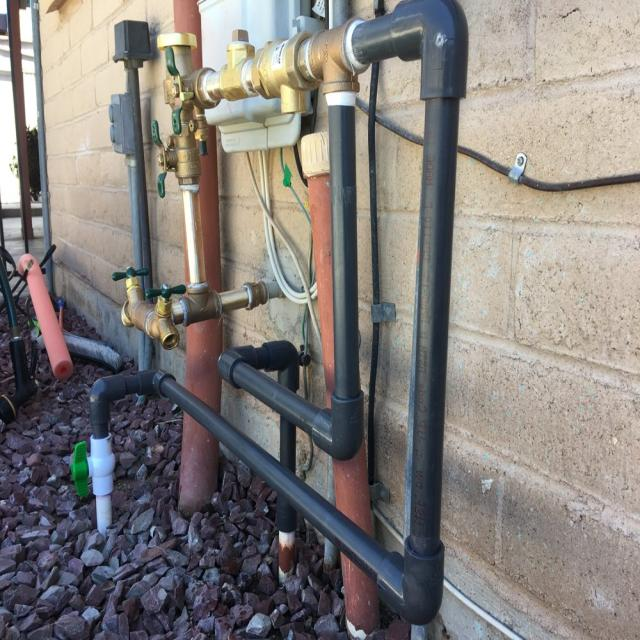Lever Handle Valve Threaded: (159, 34, 195, 180), (73, 433, 114, 535), (152, 119, 174, 203)
